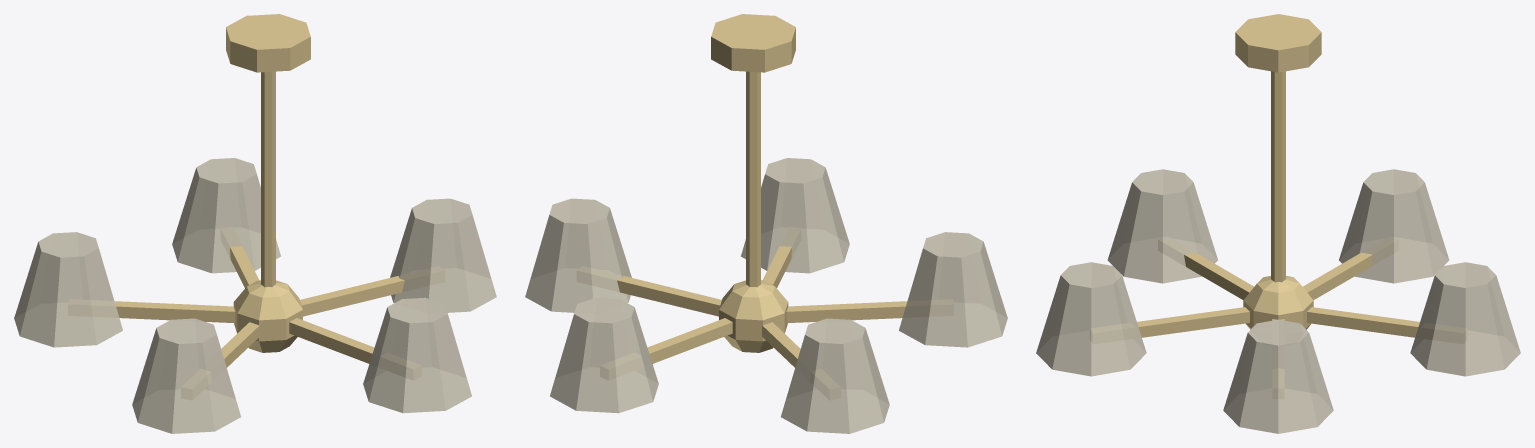
File: chandelier.glb
3 views of the same model, side by side, from view 1: azimuth 30°, elevation 25°; view 2: azimuth 150°, elevation 25°; view 3: azimuth 270°, elevation 25° (orthographic). The views are drawn at different scales.
Parts seen in each view (by area): view 1: chandelier; view 2: chandelier; view 3: chandelier.
Boxes of the visible parts, x1=… form: chandelier: x1=14, y1=14, x2=496, y2=433; chandelier: x1=525, y1=14, x2=1007, y2=433; chandelier: x1=1036, y1=14, x2=1520, y2=433.
Bounding box in the file's own units: 0.7589 × 0.56 × 0.7887.
